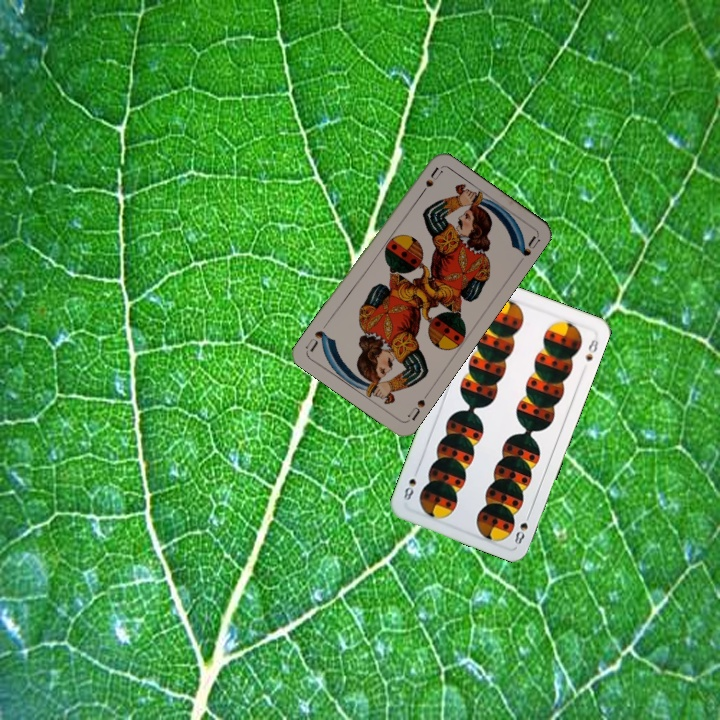S8: (510, 508, 534, 547)
SU: (414, 164, 444, 201), (404, 395, 428, 423)
